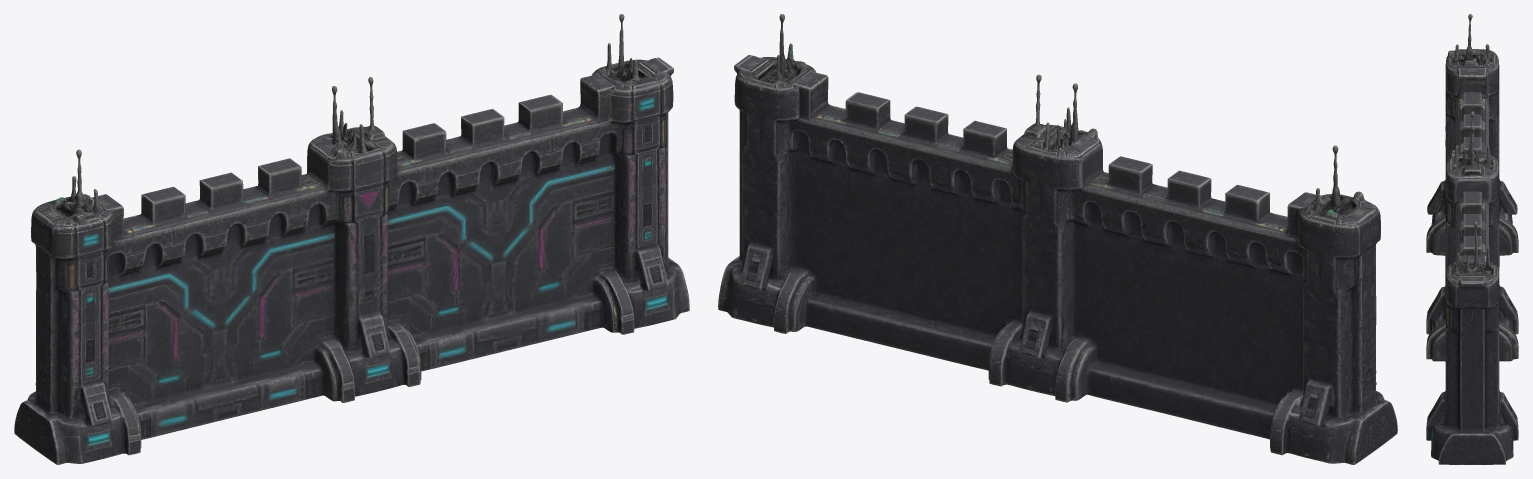
The model's file is Meshy_AI_Neon_Fortress_Wall_1014213522_texture.glb.
3 renders of one model, left to right at view 1: azimuth 30°, elevation 25°; view 2: azimuth 150°, elevation 25°; view 3: azimuth 270°, elevation 25°, orthographic. The views are drawn at different scales.
Bounding box in the file's own units: 1.86 × 0.8198 × 0.3022.
1 material, 1 textured.
